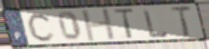0: (57, 10, 83, 42)
C: (26, 11, 57, 43)
H: (80, 8, 118, 43)
L: (141, 7, 170, 39)
T: (168, 5, 193, 38), (111, 7, 136, 40)
